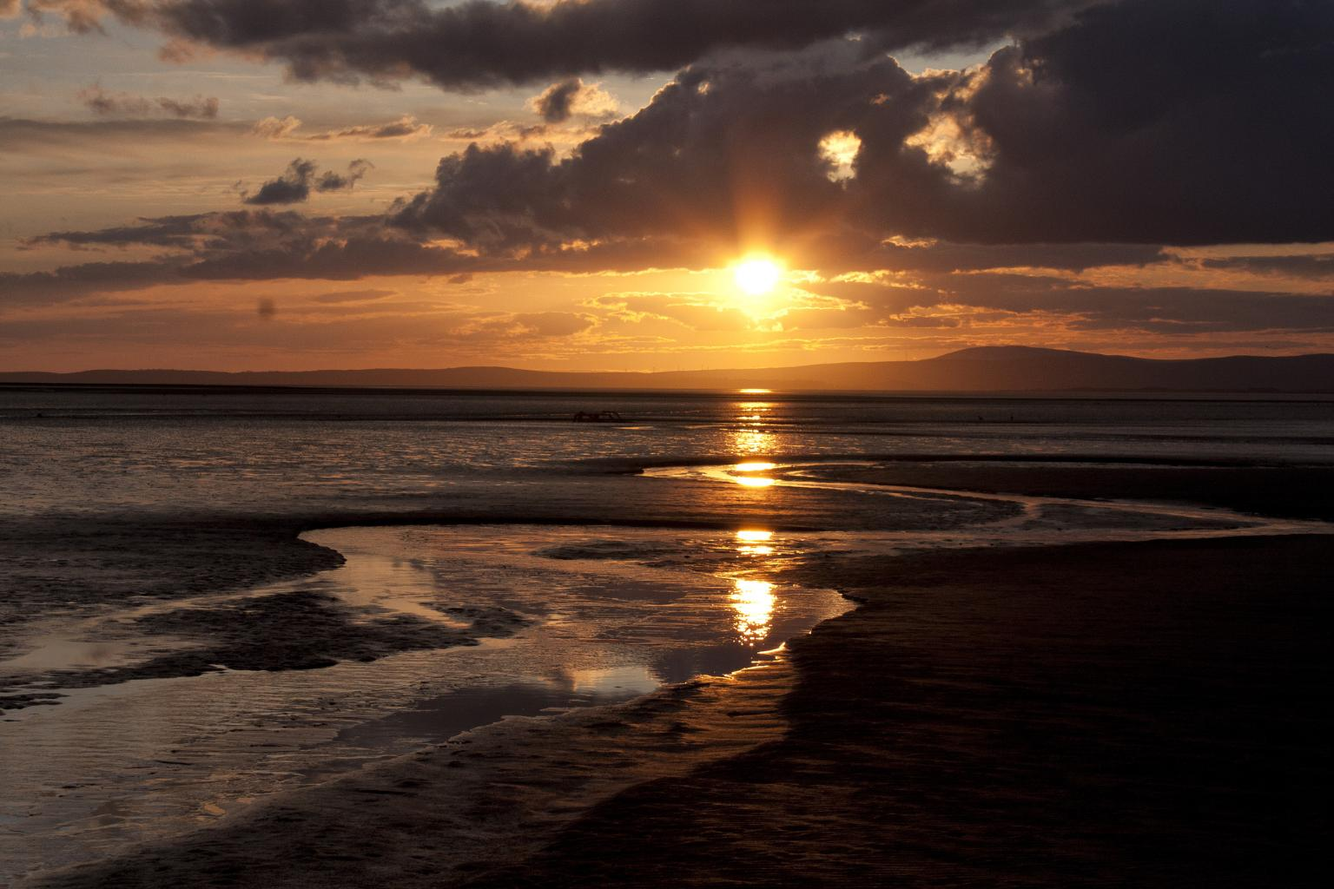fire: (734, 260, 806, 333), (700, 462, 780, 498), (730, 573, 773, 637), (735, 530, 772, 556)
